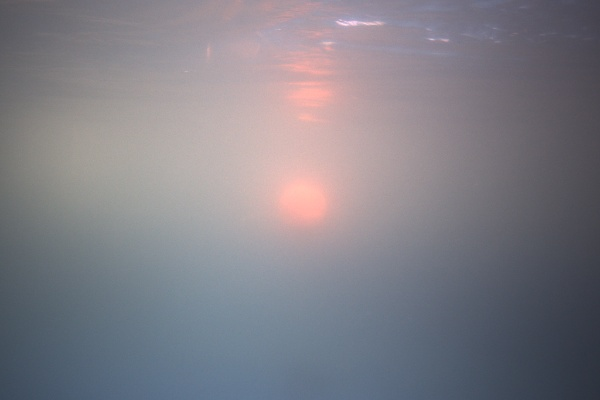buoy: (128, 117, 292, 315)
